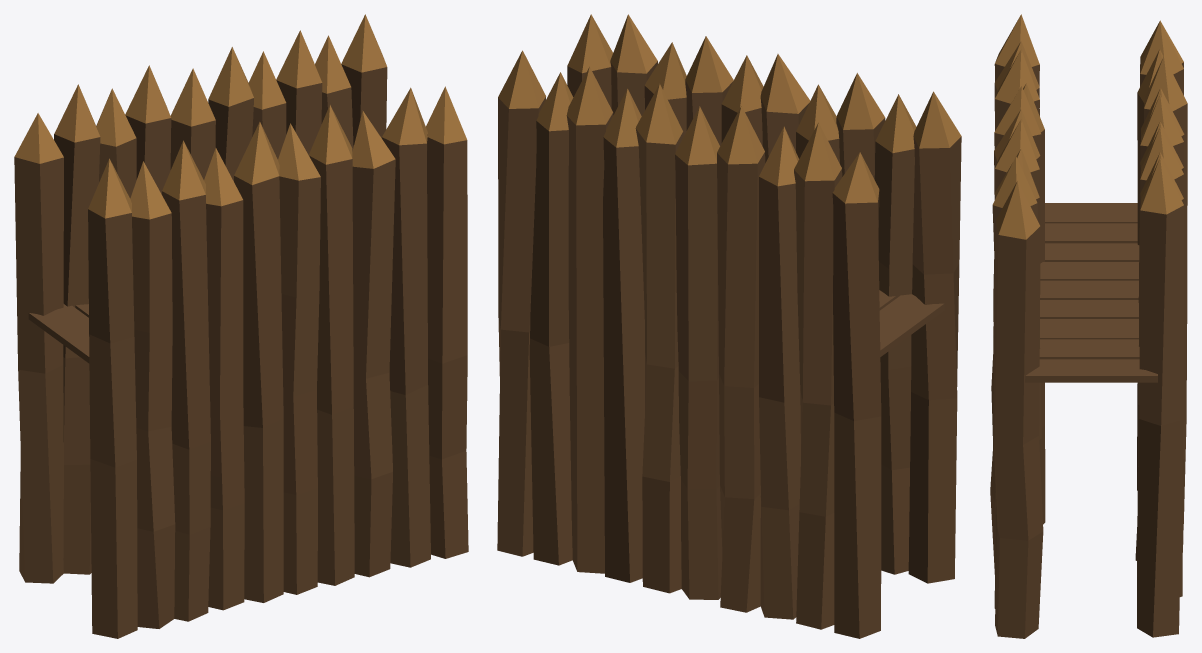
Rendered from wall-medieval-wood.glb.
The picture shows the model from 3 angles, left to right: view 1: azimuth 30°, elevation 25°; view 2: azimuth 150°, elevation 25°; view 3: azimuth 270°, elevation 25°; orthographic projection. The views are drawn at different scales.
Visible parts, largest first — view 1: wall-medieval_wood; view 2: wall-medieval_wood; view 3: wall-medieval_wood.
Boxes of the visible parts, <box> form: wall-medieval_wood: <box>14,14,468,638</box>; wall-medieval_wood: <box>497,14,961,638</box>; wall-medieval_wood: <box>990,14,1187,638</box>.
Size of the model in its own units: 3.03 by 3.73 by 1.42.
1 material, 1 textured.
